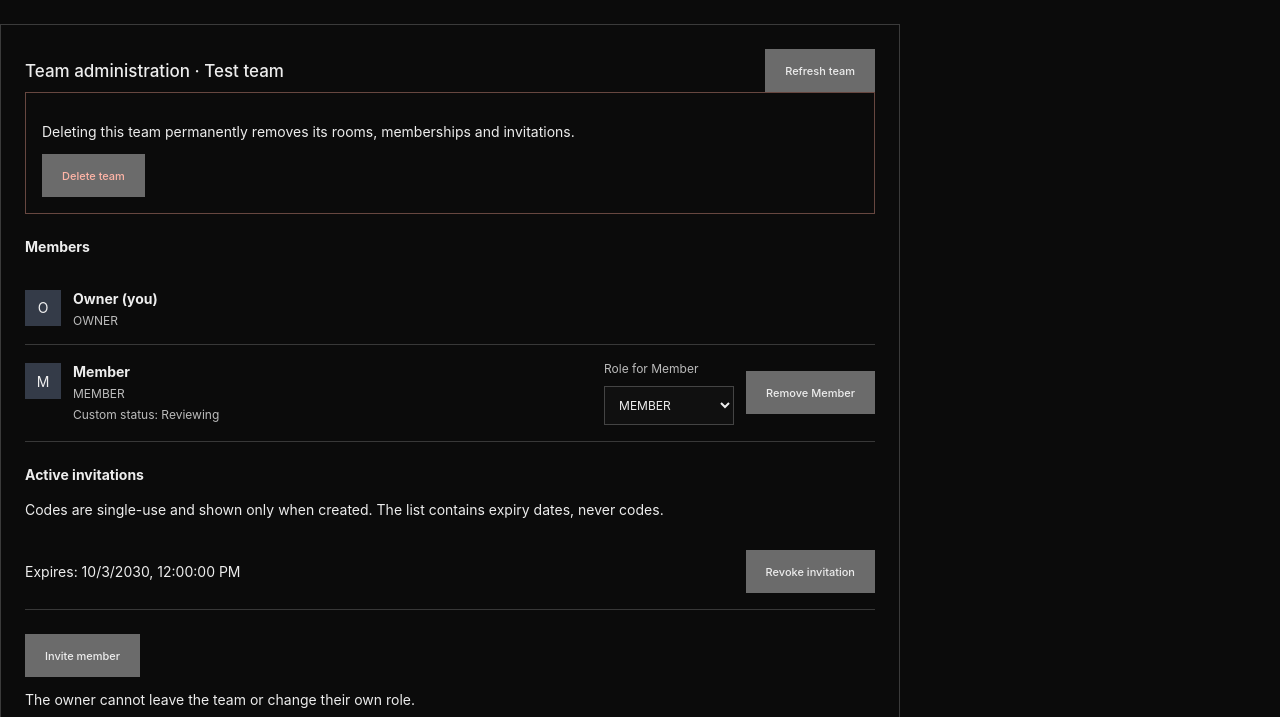
Test: blocks unknown mutations until an explicit roster refresh and acknowledgement
The width and height of the screenshot is (1280, 717).
Expected: the button "Refresh team" is enabled, 765,49 -> 875,92
Step 1. Click the button "Invite member" → (83, 656), box 25,634 -> 140,677
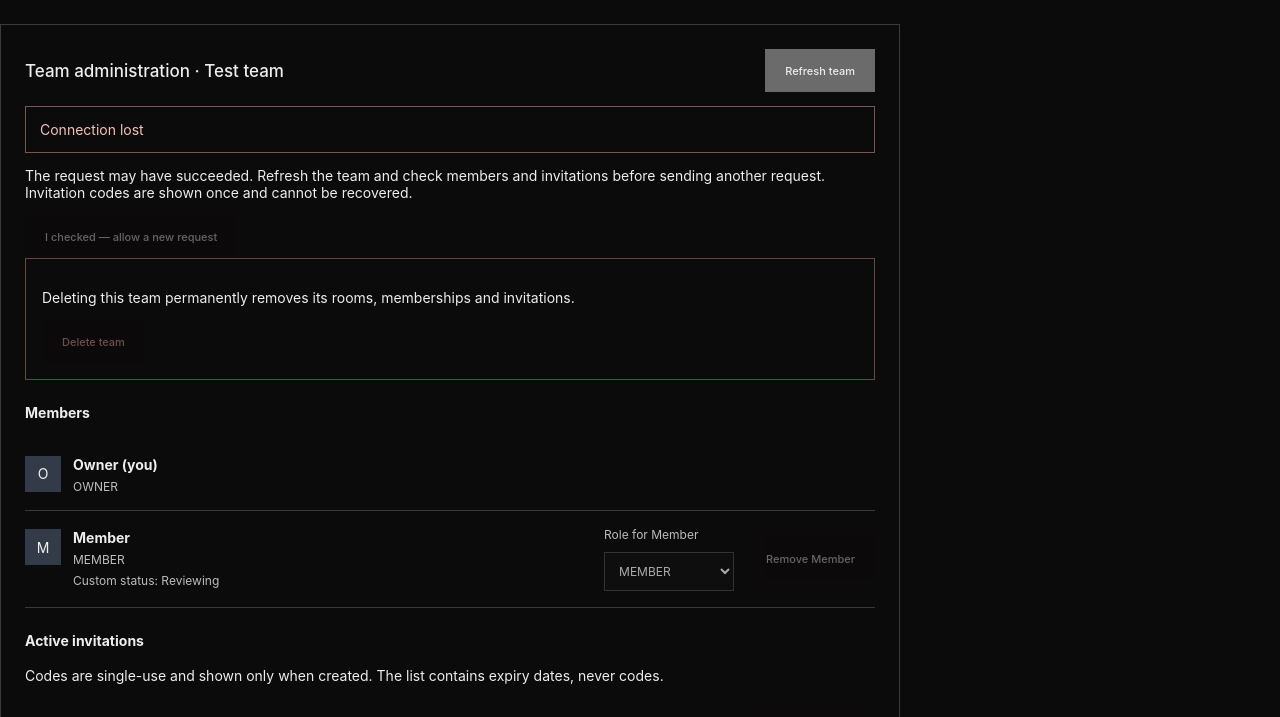
Now the text "The request may have succeeded" is shown, box 25,167 -> 825,201
Now the button "I checked — allow a new request" is disabled, box 25,215 -> 237,258
Step 2. Click the button "Refresh team" → (820, 70), box 765,49 -> 875,92
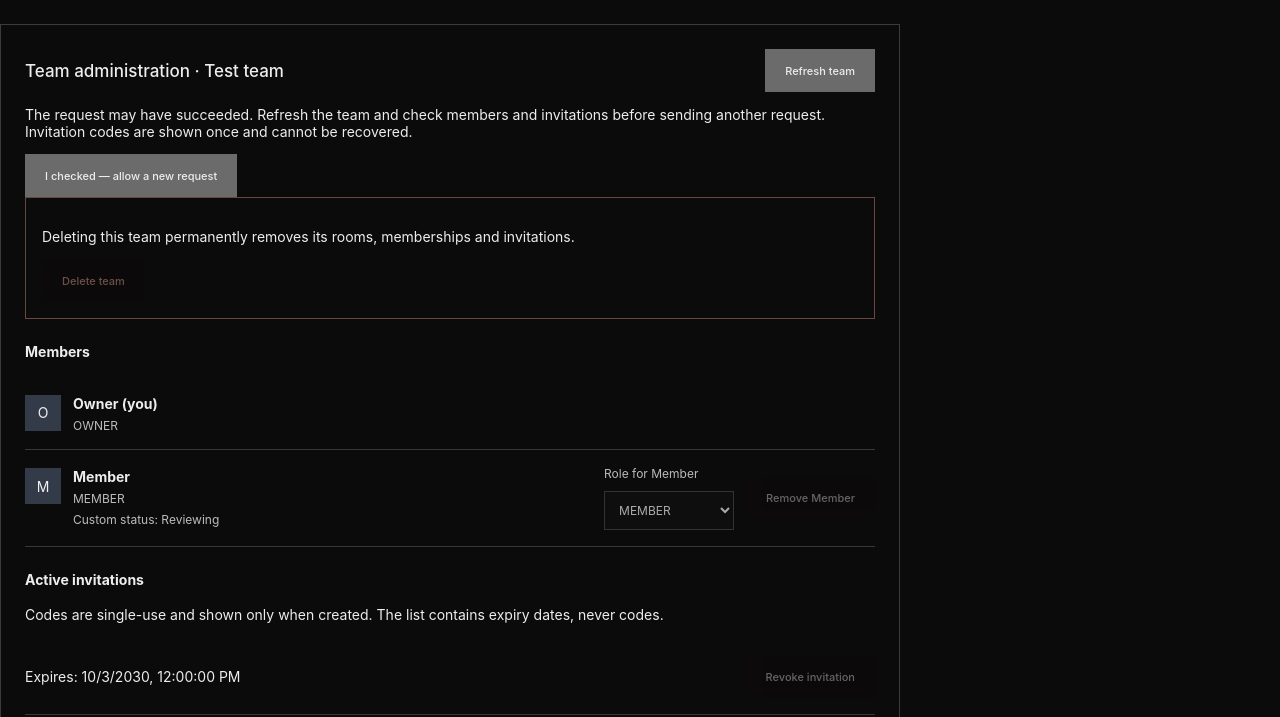
Step 3. Click the button "I checked — allow a new request" → (131, 176), box 25,154 -> 237,197
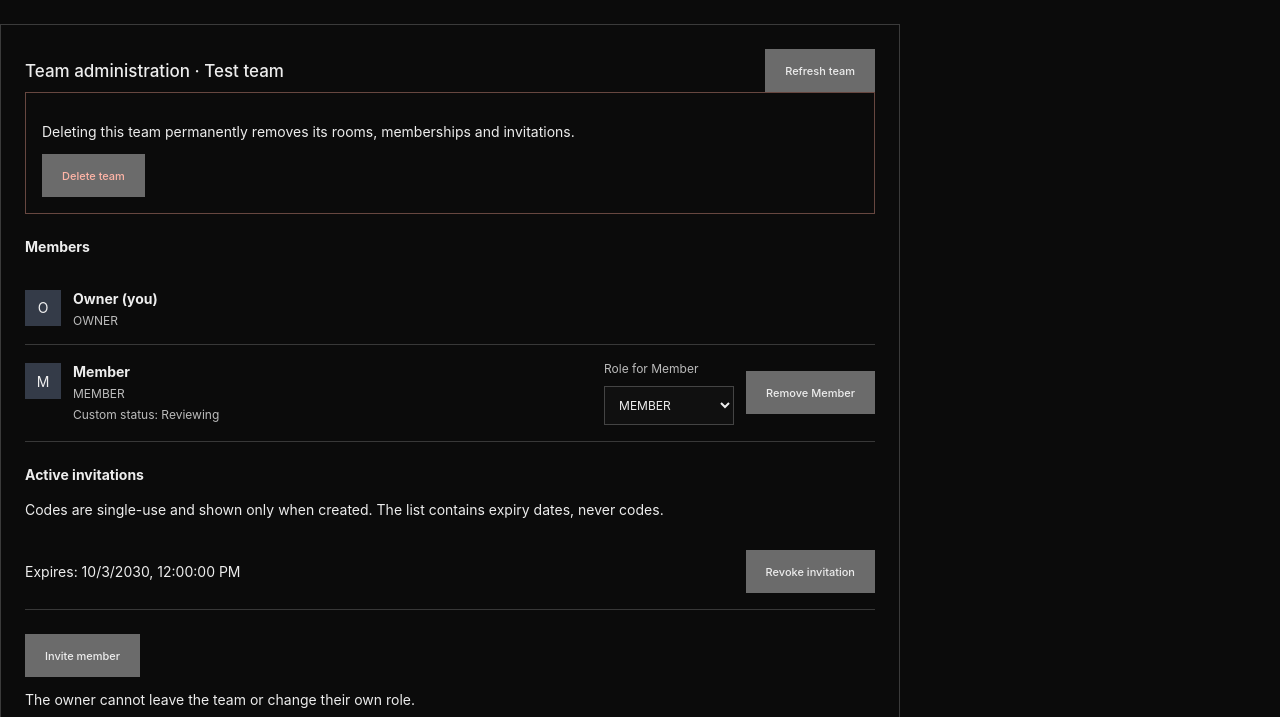
Now the button "Invite member" is enabled, box 25,634 -> 140,677
